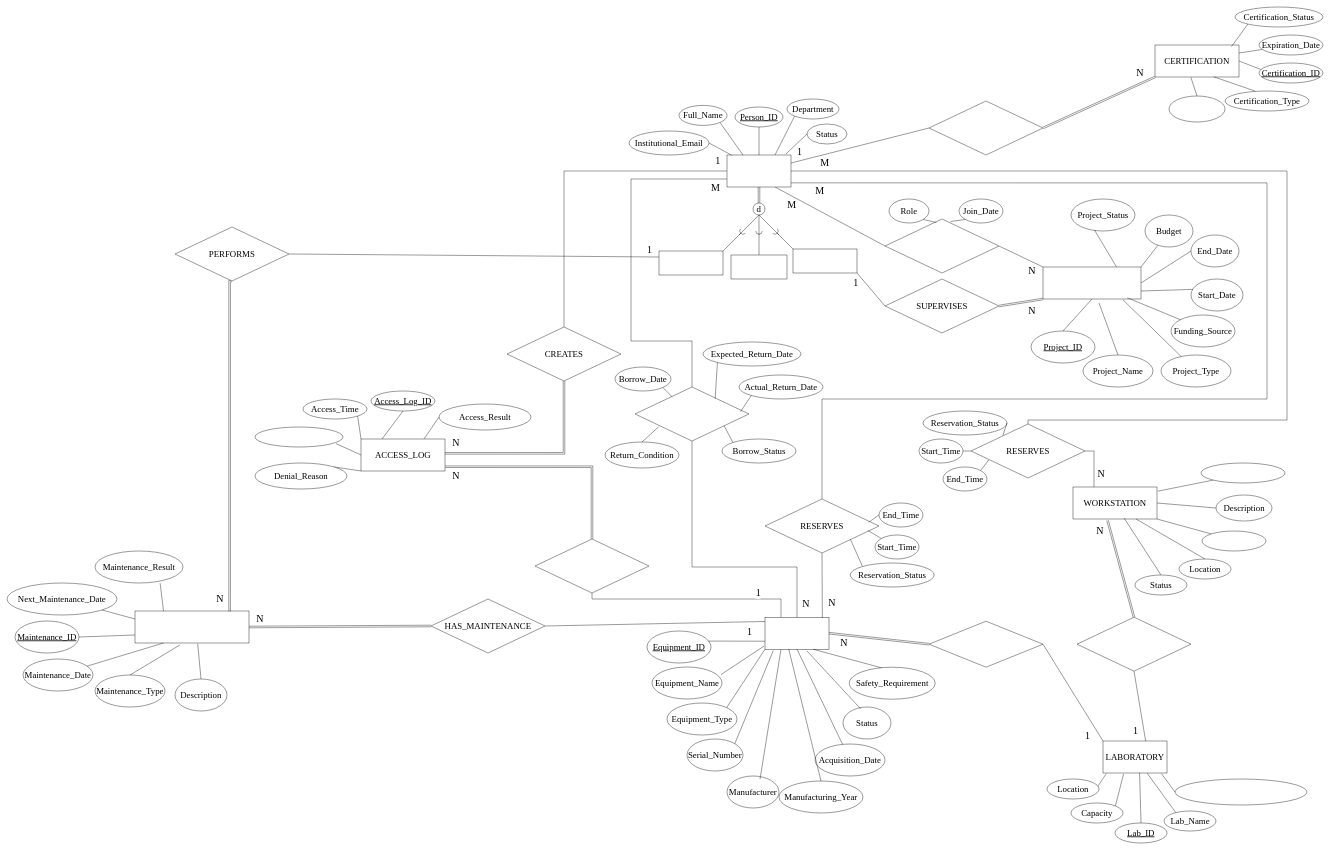
Image size: 1330x850. Some labels were removed from this diagram. Each missing label, with the centre of its shape:
"Action" belongs at [299,437].
"BORROWS" belongs at [692,414].
"EQUIPMENT" belongs at [797,633].
"FACULTY" belongs at [825,261].
"HAS_ACCESS_LOG" belongs at [592,566].
"HAS_CERTIFICATION" belongs at [986,128].
"HAS_EQUIPMENT" belongs at [986,644].
"HAS_WORKSTATION" belongs at [1134,644].
"Issue_Date" belongs at [1197,109].
"LAB_STAFF" belongs at [691,263].
"MAINTENANCE_RECORD" belongs at [192,627].
"PARTICIPATES_IN" belongs at [942,246].
"PERSON" belongs at [759,171].
"RESEARCH_PROJECT" belongs at [1092,283].
"Responsible_Department" belongs at [1241,792].
"STUDENT" belongs at [759,267].
"Workstation_ID" belongs at [1234,541].
"Workstation_Name" belongs at [1243,473].
